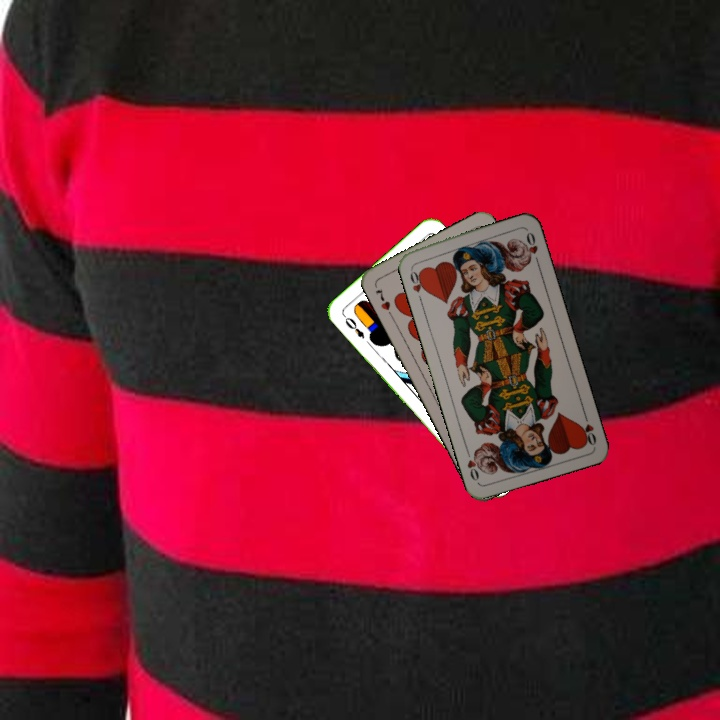EO: (339, 311, 367, 341)
H7: (371, 284, 395, 320)
HO: (406, 263, 429, 304), (576, 408, 599, 448)
